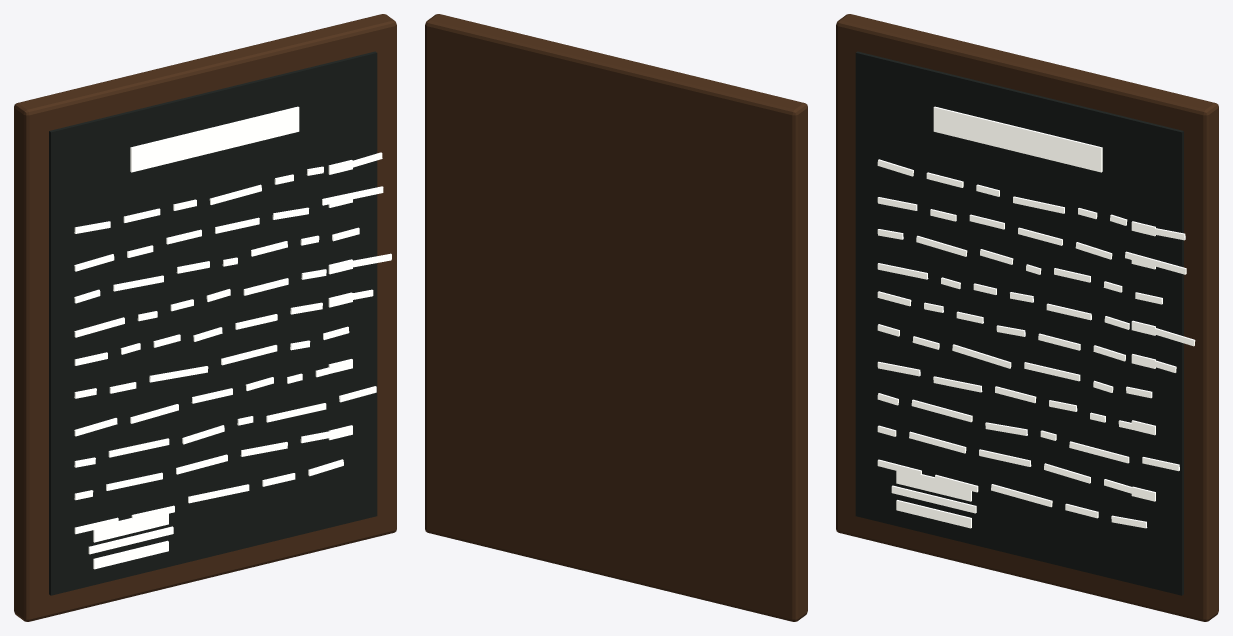
File: chalk.glb
The picture shows the model from 3 angles, left to right: view 1: azimuth 30°, elevation 25°; view 2: azimuth 150°, elevation 25°; view 3: azimuth 330°, elevation 25°; orthographic projection.
Parts seen in each view (by area): view 1: board, frame, title, doodle2, doodle0, doodle1; view 2: frame; view 3: board, frame, title, doodle2, doodle0, doodle1.
Part boxes in pixels (x1=…): board: x1=49, y1=51, x2=377, y2=595; frame: x1=14, y1=14, x2=396, y2=621; title: x1=130, y1=106, x2=299, y2=172; doodle2: x1=93, y1=510, x2=168, y2=542; doodle0: x1=93, y1=540, x2=168, y2=569; doodle1: x1=88, y1=526, x2=173, y2=554; frame: x1=425, y1=14, x2=807, y2=621; board: x1=855, y1=51, x2=1183, y2=595; frame: x1=836, y1=14, x2=1218, y2=621; title: x1=933, y1=106, x2=1102, y2=172; doodle2: x1=896, y1=469, x2=971, y2=501; doodle0: x1=896, y1=500, x2=971, y2=528; doodle1: x1=891, y1=485, x2=976, y2=513.
Bounding box in the file's own units: 0.8 × 1.05 × 0.062.
